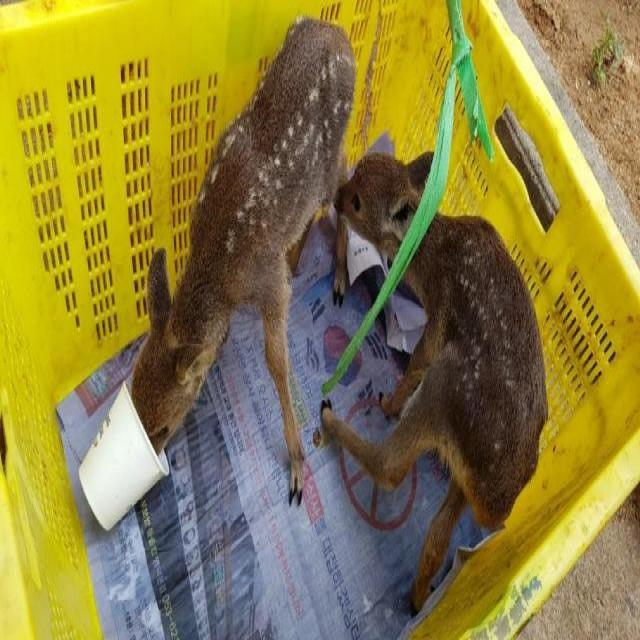deer: (108, 19, 364, 530), (318, 156, 550, 635)
